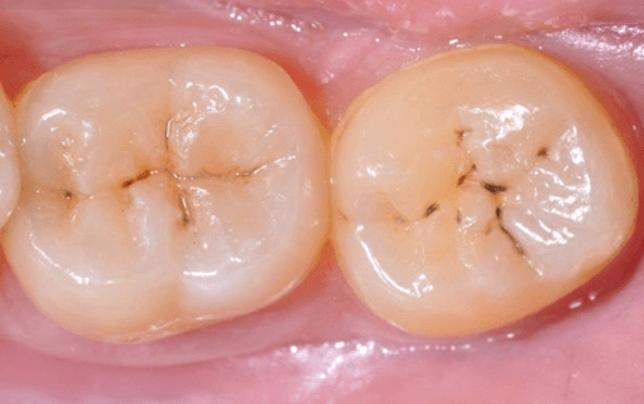cavity: (328, 38, 643, 367), (0, 39, 337, 341)
